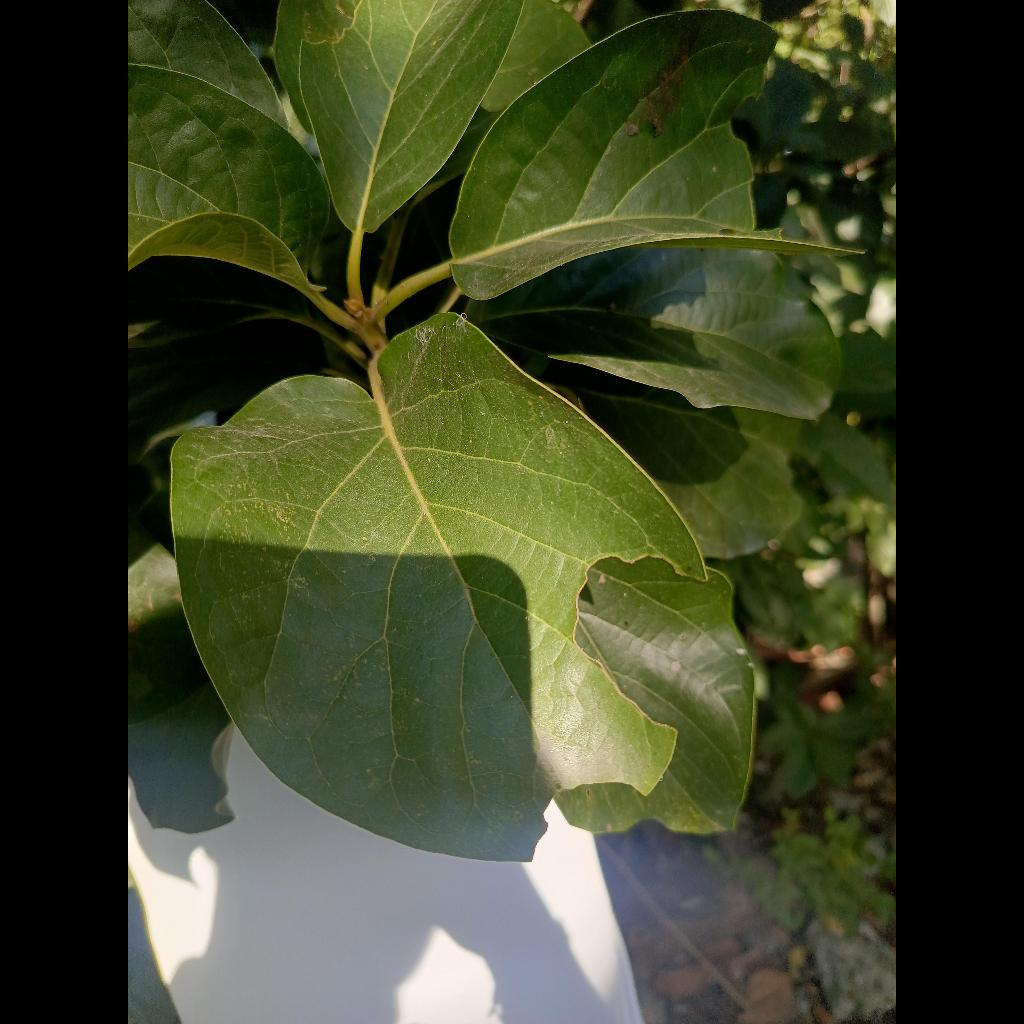Pest Infested: (172, 314, 704, 860), (450, 11, 808, 299)
